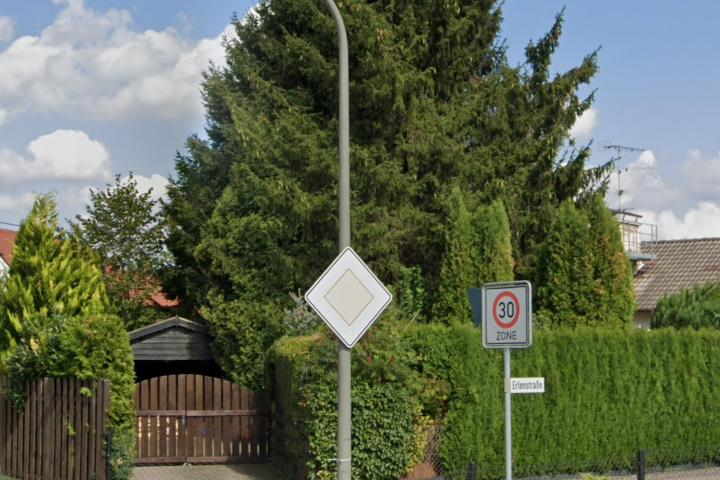traffic_sign: (303, 246, 394, 351), (492, 290, 521, 329)
